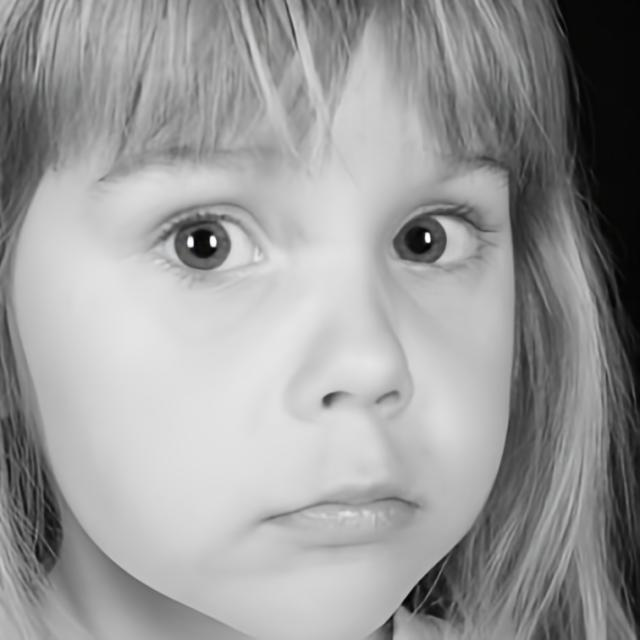sad: (6, 4, 520, 640)
